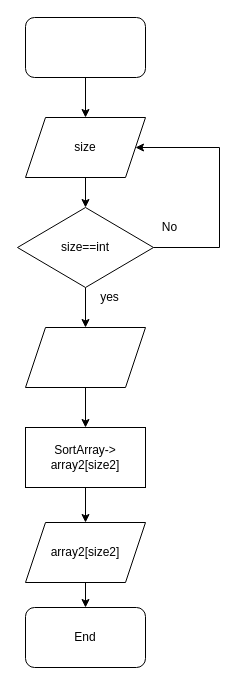
The diagram is 245 pixels wide and 685 high, and some of its shapes have lost their labels. The shapes that lost their labels are listed below. From the top down, each one's centre as x and y in pixels, then its label:
At (85,47): "start".
At (85,357): "array[size]".
